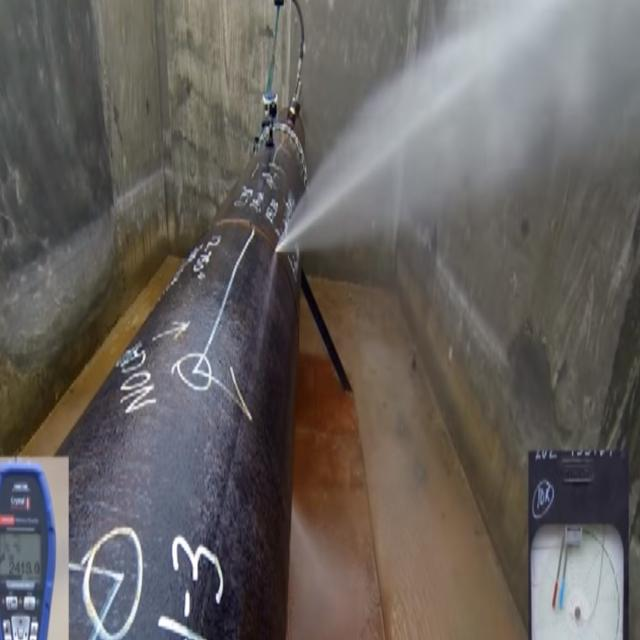leak: (278, 2, 571, 252)
